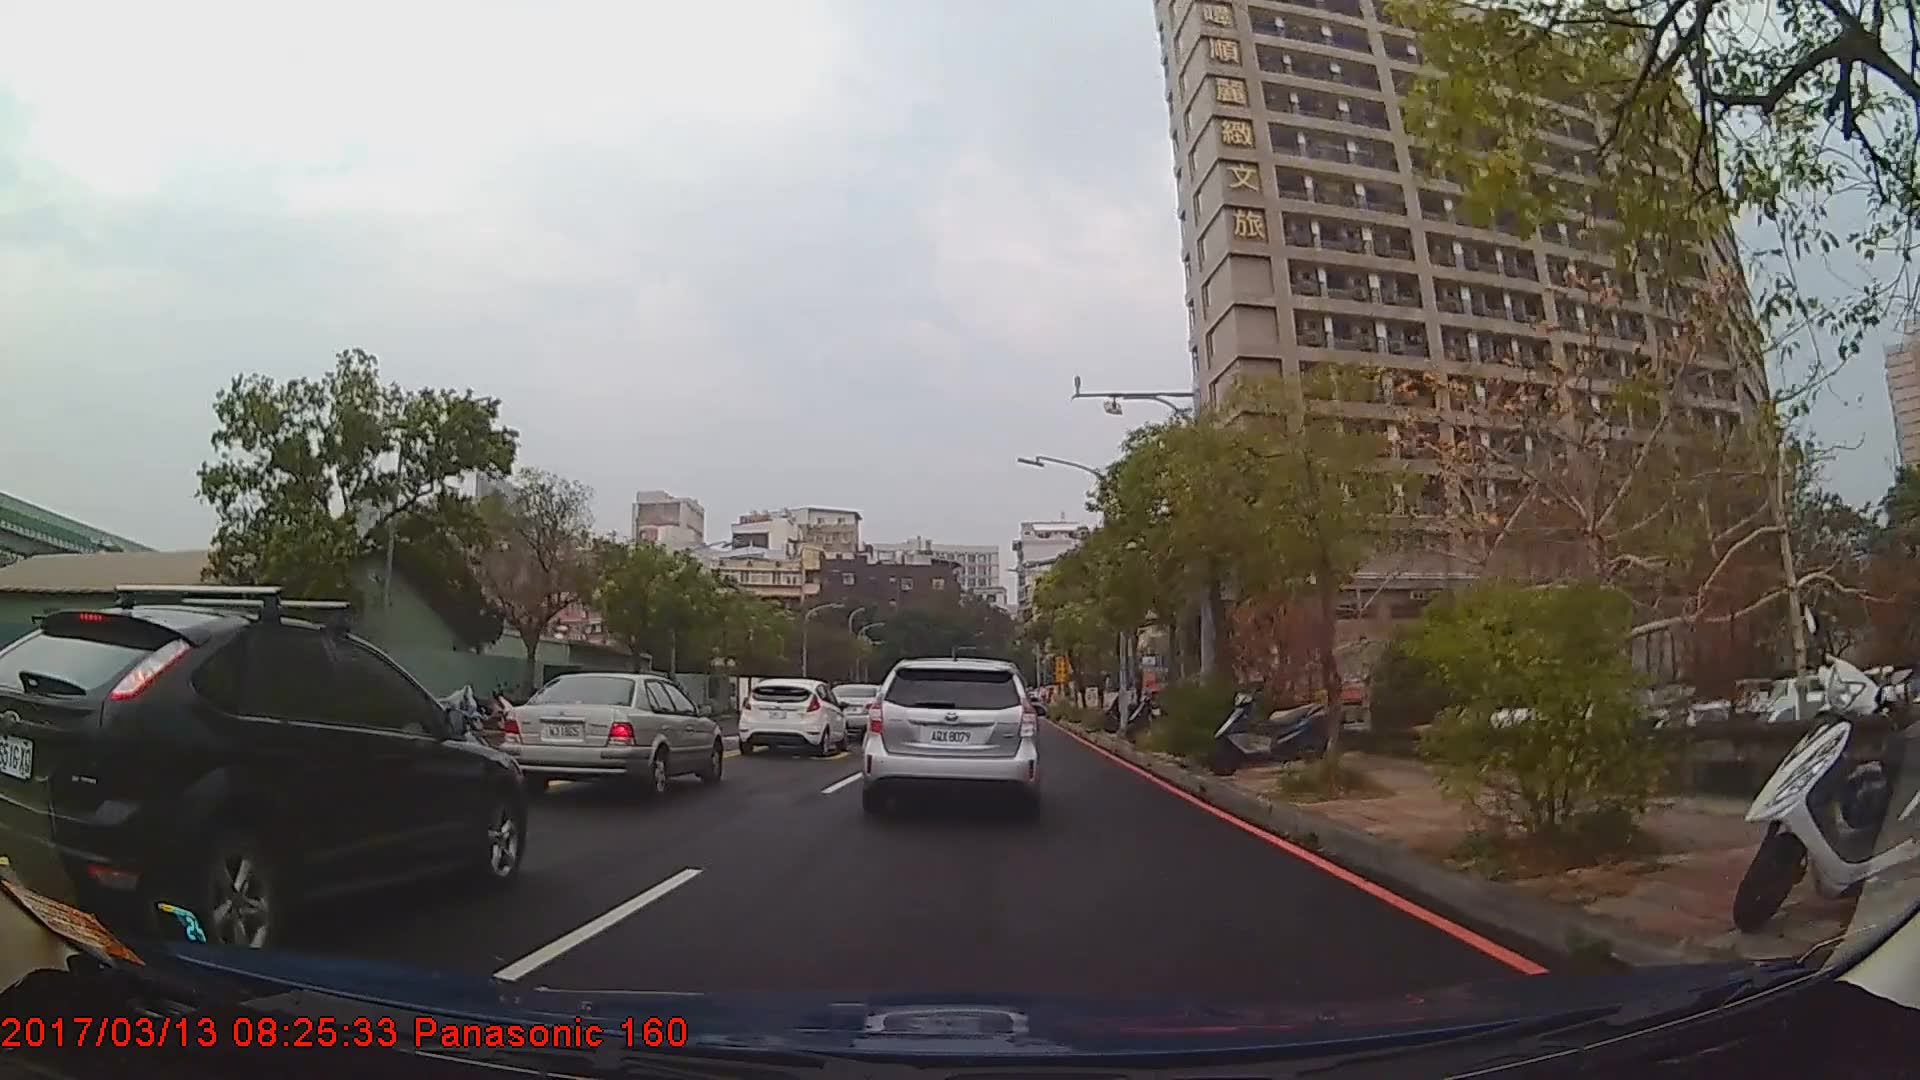vehicle: (0, 603, 527, 957), (500, 671, 723, 800), (861, 658, 1040, 818), (736, 679, 847, 757)
